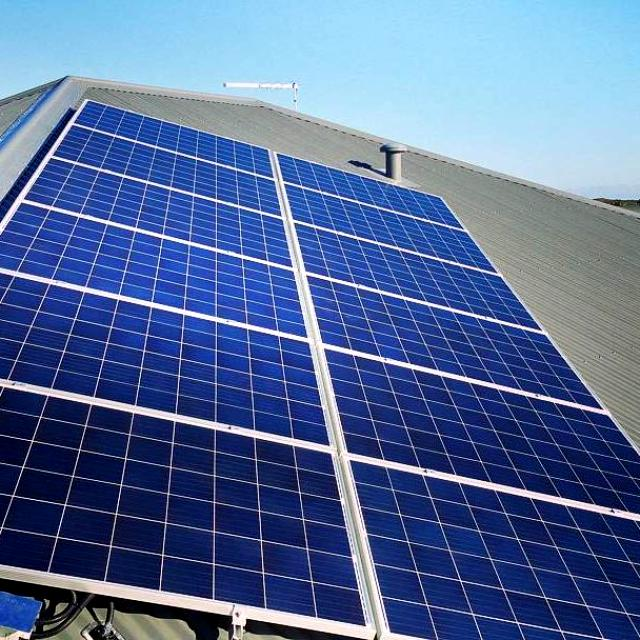crack: (1, 376, 471, 640), (0, 267, 353, 469), (308, 336, 640, 526), (329, 457, 640, 640), (292, 268, 640, 416), (16, 200, 317, 360), (24, 146, 299, 272), (283, 220, 571, 336), (280, 179, 520, 283), (256, 140, 482, 247), (56, 95, 296, 178)
